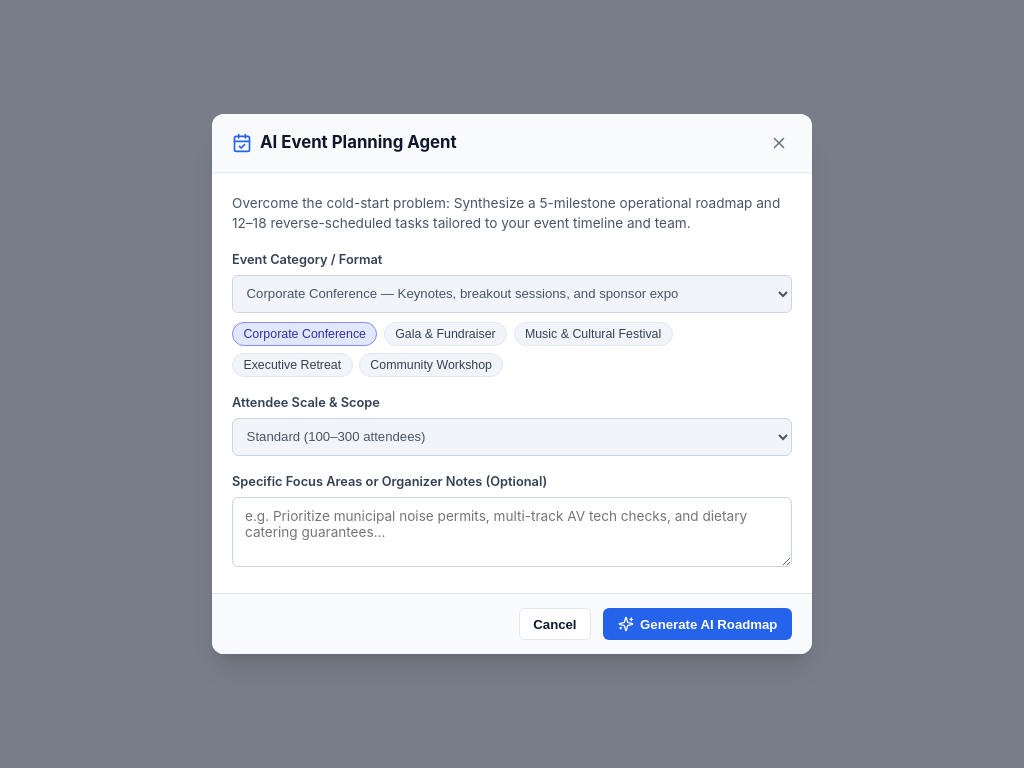
Scenario: GeneratePlanModal Component › clicking a preset category chip updates the selected category
Click the button "Gala & Fundraiser": (445, 334) x1=384 y1=322 x2=507 y2=346
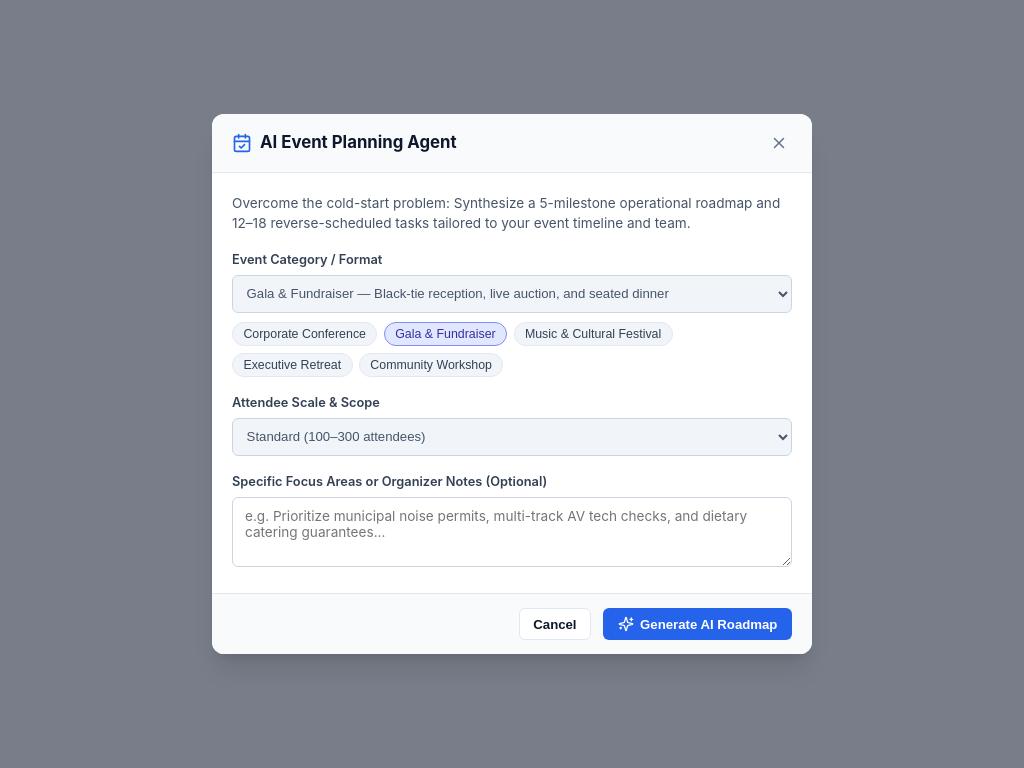
Result: the dropdown labelled "Event Category / Format" shows "Gala & Fundraiser — Black-tie reception, live auction, and seated dinner" at x1=232 y1=275 x2=792 y2=313
